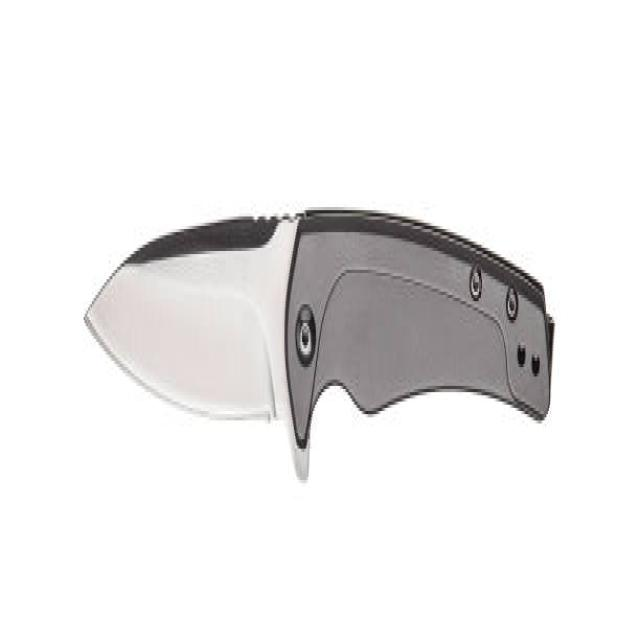knife: (79, 177, 569, 525)
